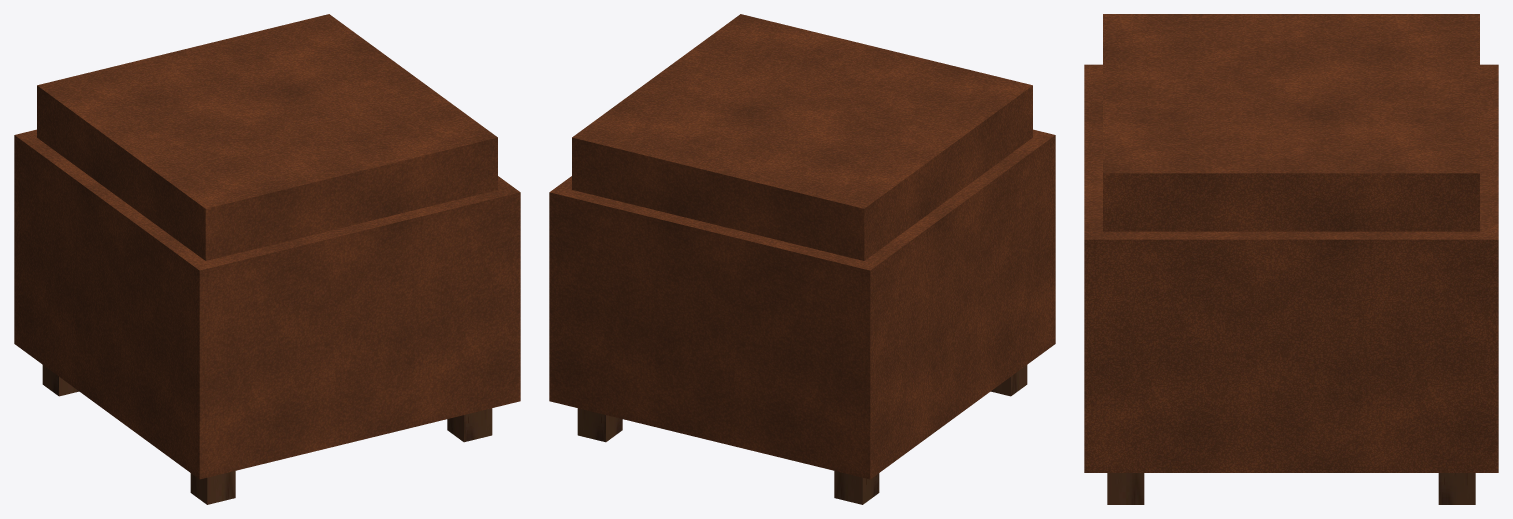
The picture shows the model from 3 angles, left to right: view 1: azimuth 30°, elevation 25°; view 2: azimuth 150°, elevation 25°; view 3: azimuth 270°, elevation 25°; orthographic projection. The views are drawn at different scales.
Parts seen in each view (by area): view 1: Pouf_Game; view 2: Pouf_Game; view 3: Pouf_Game.
Part boxes in pixels (<box>): Pouf_Game: <box>14,14,520,504</box>; Pouf_Game: <box>549,14,1055,504</box>; Pouf_Game: <box>1084,14,1498,504</box>.
Size of the model in its own units: 0.45 by 0.4 by 0.45.
Materials: 2 (2 with a texture image).
